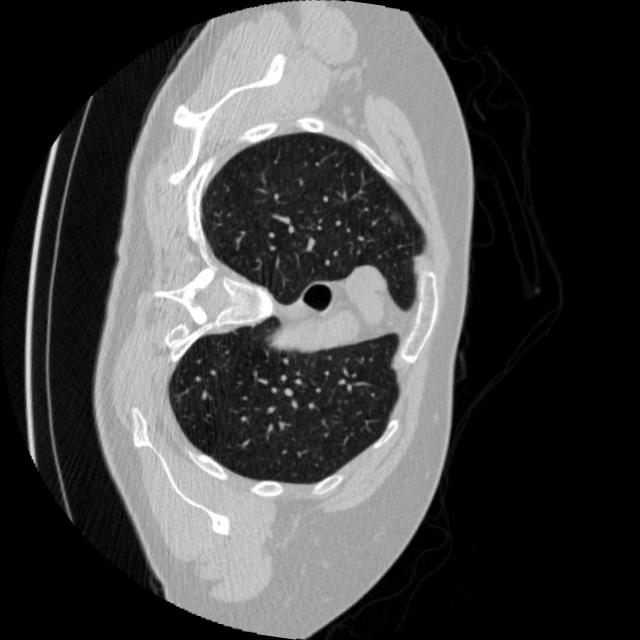nodule: (384, 204, 412, 232)
